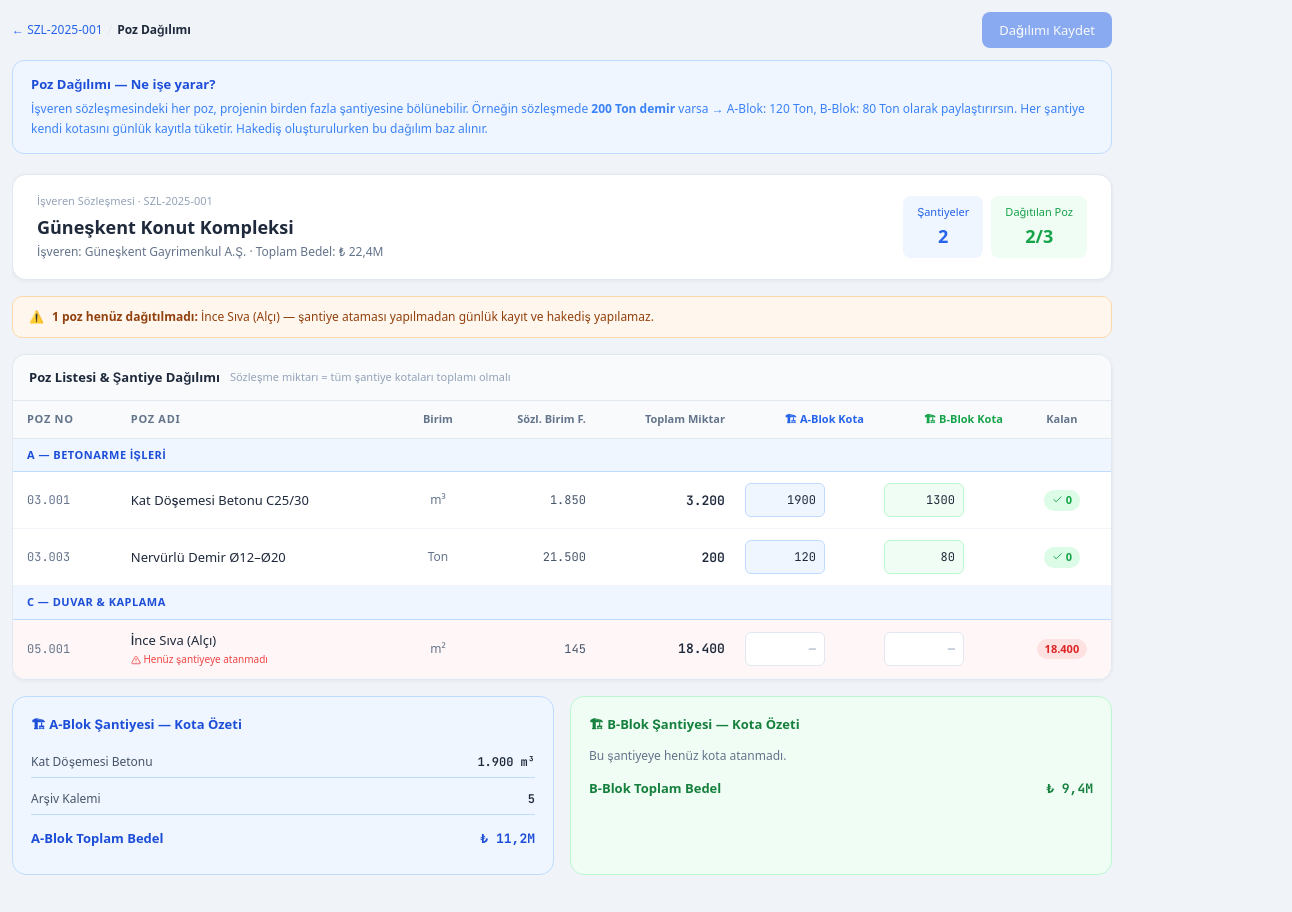
POZ dağılımı — BİRLEŞTİRME (merge) semantiği › geçersiz metin de isteği engeller (negatif/sayı olmayan)
Replace the text in the field named "03.001 · B-Blok kotası" with "-5": (924, 500) [884,483,964,517]
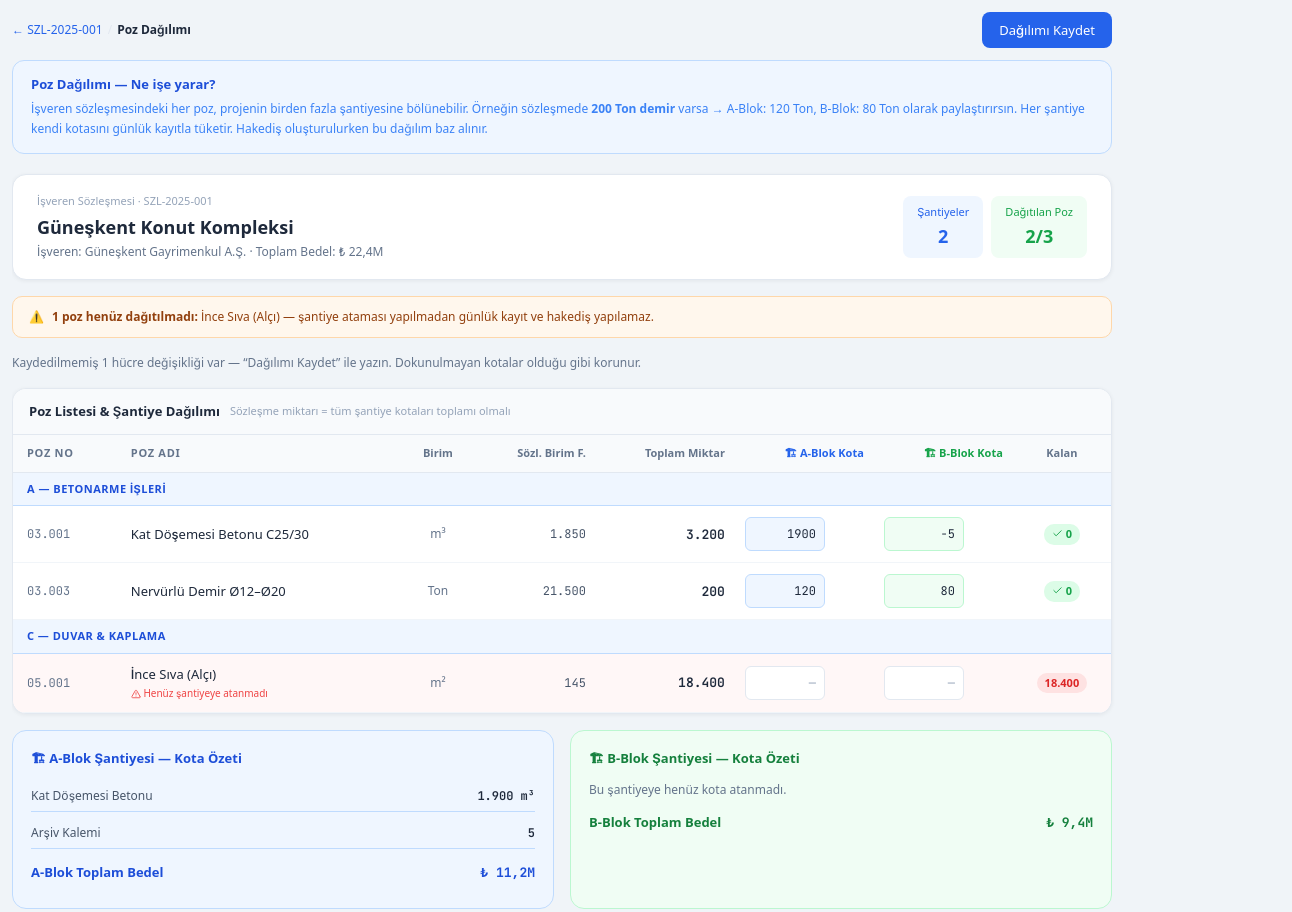
Click the button with test id "cdist-save": (1047, 30) [982,12,1112,48]
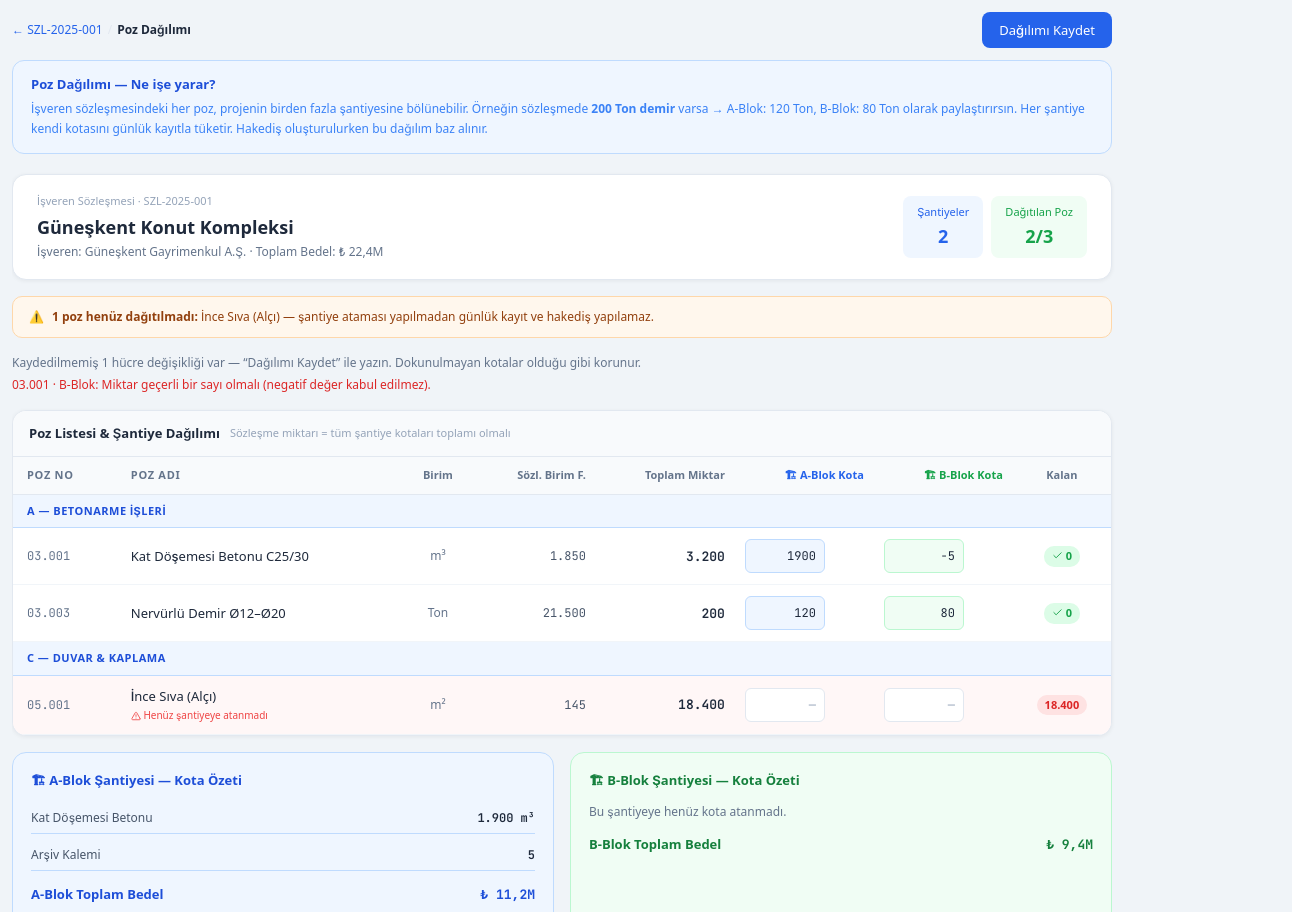
Expected: the text "geçerli bir sayı olmalı" is shown, [12,376,431,393]
